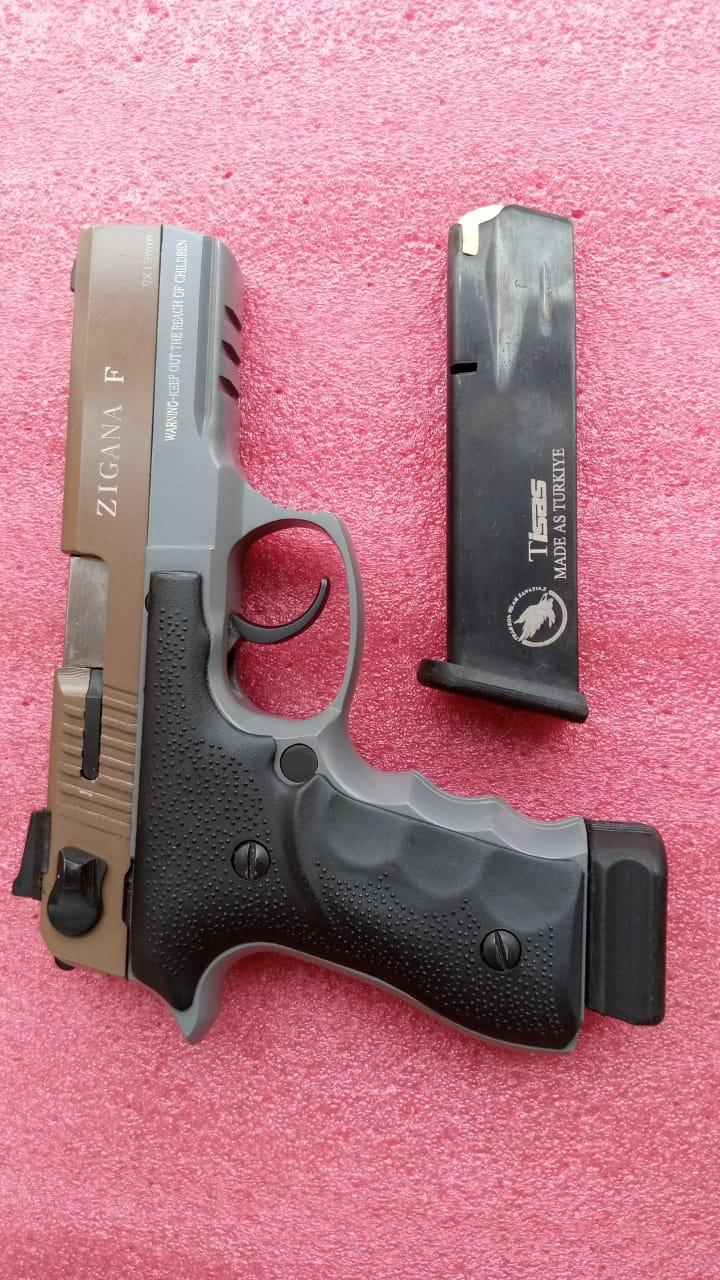weapon: (15, 220, 668, 1050)
